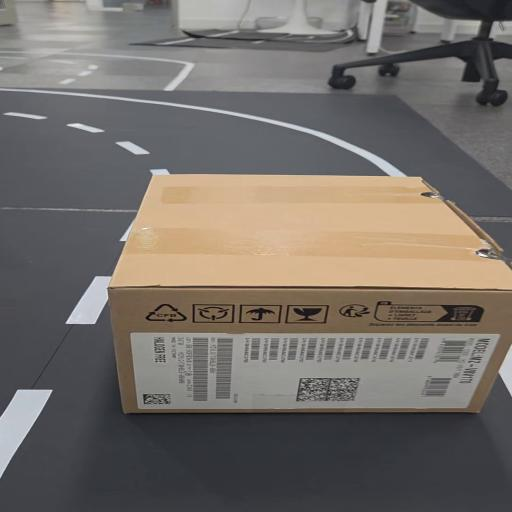Box: (117, 172, 509, 424)
